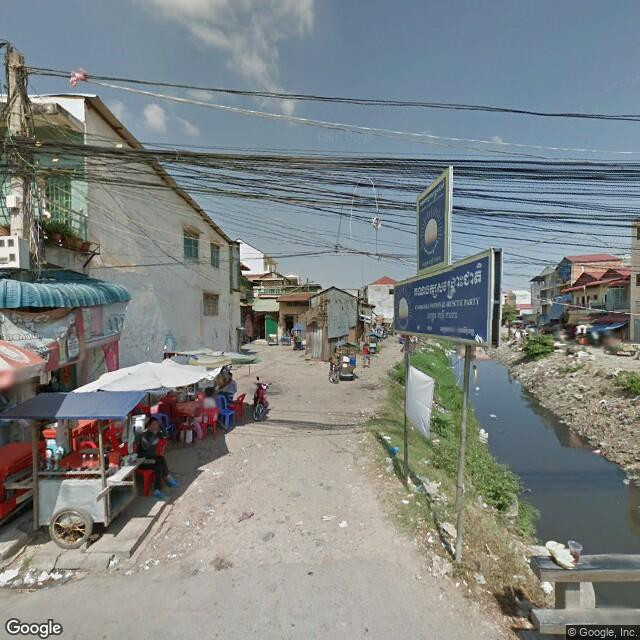litter: (2, 565, 74, 591), (545, 532, 588, 571), (315, 506, 336, 523), (592, 442, 609, 462), (385, 441, 403, 459), (339, 517, 354, 533), (488, 406, 499, 425)
